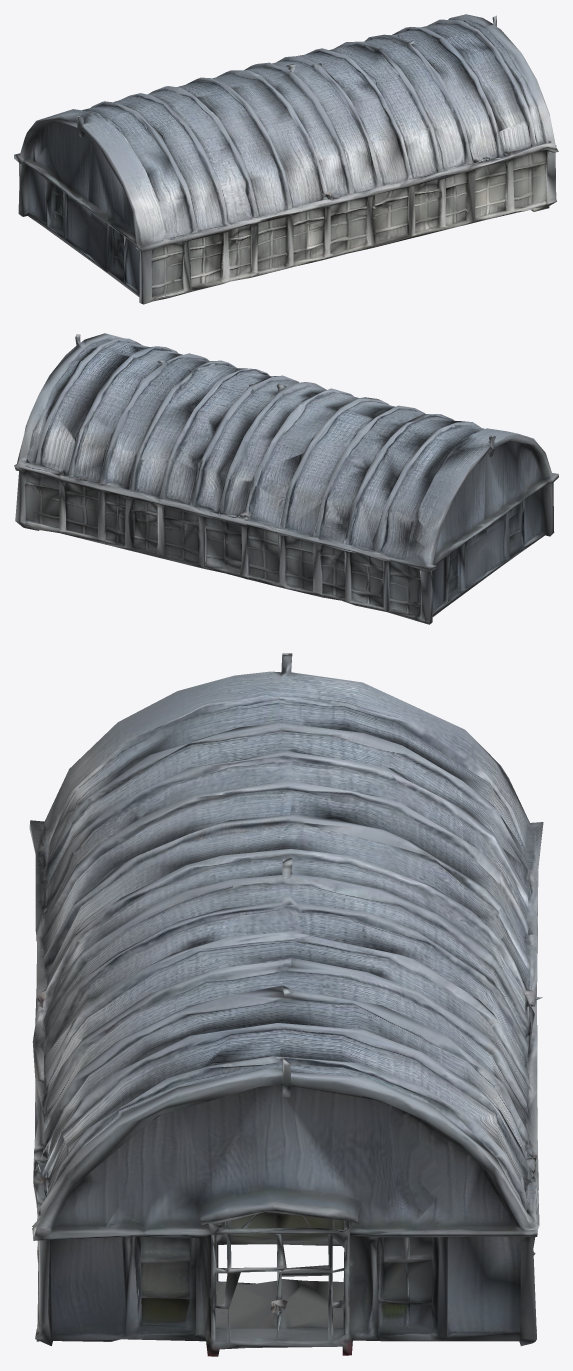
Rendered from haus_halle.glb.
The picture shows the model from 3 angles, top to bottom: view 1: azimuth 30°, elevation 25°; view 2: azimuth 150°, elevation 25°; view 3: azimuth 270°, elevation 25°; orthographic projection. The views are drawn at different scales.
Parts seen in each view (by area): view 1: tripo_node_152415d6-4783-47e8-8589-6a566b25955c; view 2: tripo_node_152415d6-4783-47e8-8589-6a566b25955c; view 3: tripo_node_152415d6-4783-47e8-8589-6a566b25955c.
Boxes of the visible parts, x1=… form: tripo_node_152415d6-4783-47e8-8589-6a566b25955c: x1=14, y1=14, x2=558, y2=304; tripo_node_152415d6-4783-47e8-8589-6a566b25955c: x1=14, y1=333, x2=558, y2=624; tripo_node_152415d6-4783-47e8-8589-6a566b25955c: x1=29, y1=653, x2=543, y2=1356.
Size of the model in its own units: 0.9995 by 0.3276 by 0.5222.
1 material, 1 textured.
